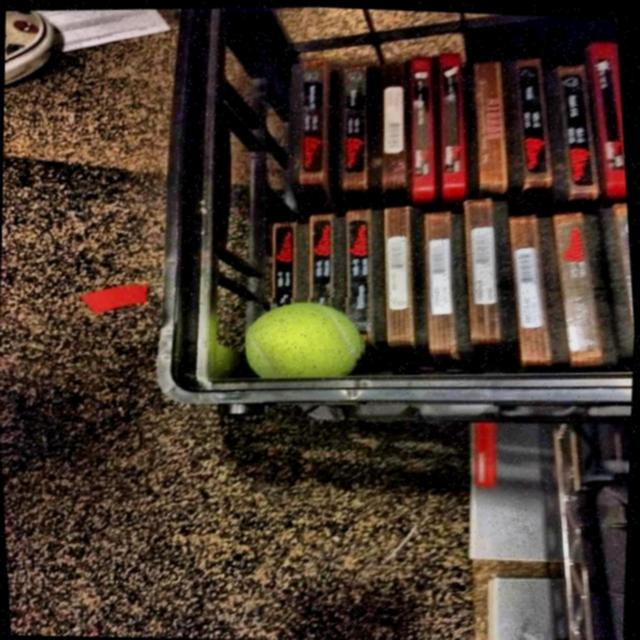tennis-ball: (242, 291, 372, 395)
